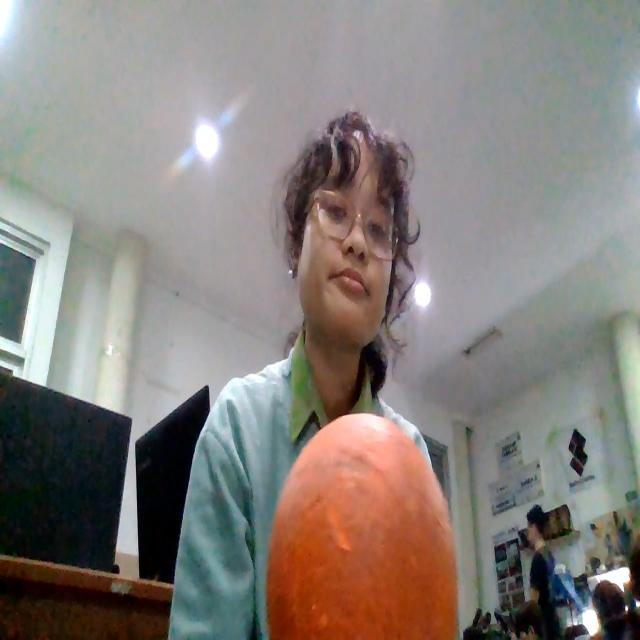ball: (264, 412, 458, 638)
